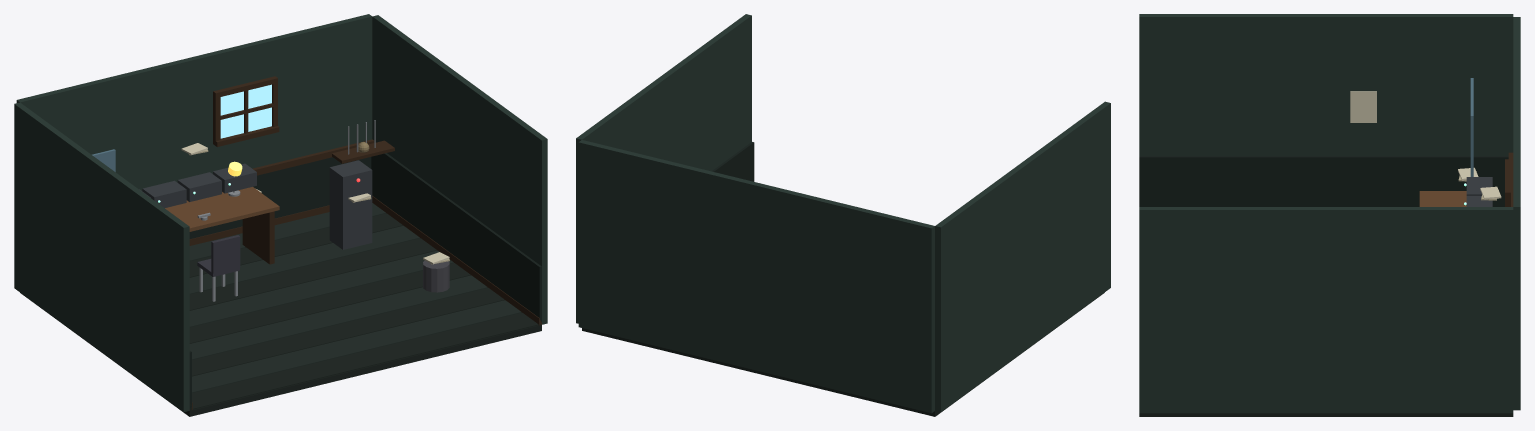
Rendered from radio.glb.
The picture shows the model from 3 angles, left to right: view 1: azimuth 30°, elevation 25°; view 2: azimuth 150°, elevation 25°; view 3: azimuth 270°, elevation 25°; orthographic projection. The views are drawn at different scales.
Visible parts, largest first — view 1: WallLeft, WallBack, WallRight, BandRight, Plank0, Plank1, Plank2, Plank3, Plank4, Plank5, Plank6, BandBack (+19 smaller); view 2: WallBack, WallLeft, WallRight, Floor, BandRight; view 3: WallRight, WallLeft, BandLeft, WallBack, Floor, P_h_flight_schedule, RDesk, Rack0, Map.
Part boxes in pixels (x1,y1,x2,y2): WallLeft: (14, 102, 189, 411); WallBack: (16, 14, 372, 190); WallRight: (372, 15, 547, 324); BandRight: (371, 153, 541, 324); Plank0: (192, 312, 538, 409); Plank1: (192, 300, 521, 392); Plank2: (192, 287, 504, 376); Plank3: (189, 275, 487, 359); Plank4: (189, 263, 470, 343); Plank5: (189, 250, 453, 327); Plank6: (189, 238, 436, 310); BandBack: (189, 157, 371, 238); WallBack: (578, 140, 934, 413); WallLeft: (935, 101, 1110, 411); WallRight: (576, 14, 751, 323); Floor: (582, 292, 1104, 416); BandRight: (711, 142, 754, 181); WallRight: (1139, 207, 1513, 413); WallLeft: (1139, 14, 1513, 155); BandLeft: (1139, 156, 1508, 206); WallBack: (1513, 17, 1520, 410); Floor: (1139, 413, 1513, 416); P_h_flight_schedule: (1350, 91, 1376, 122); RDesk: (1419, 191, 1466, 206); Rack0: (1466, 177, 1492, 195); Map: (1470, 78, 1473, 176).
Bounding box in the file's own units: 6.2 × 3.1 × 5.1.
